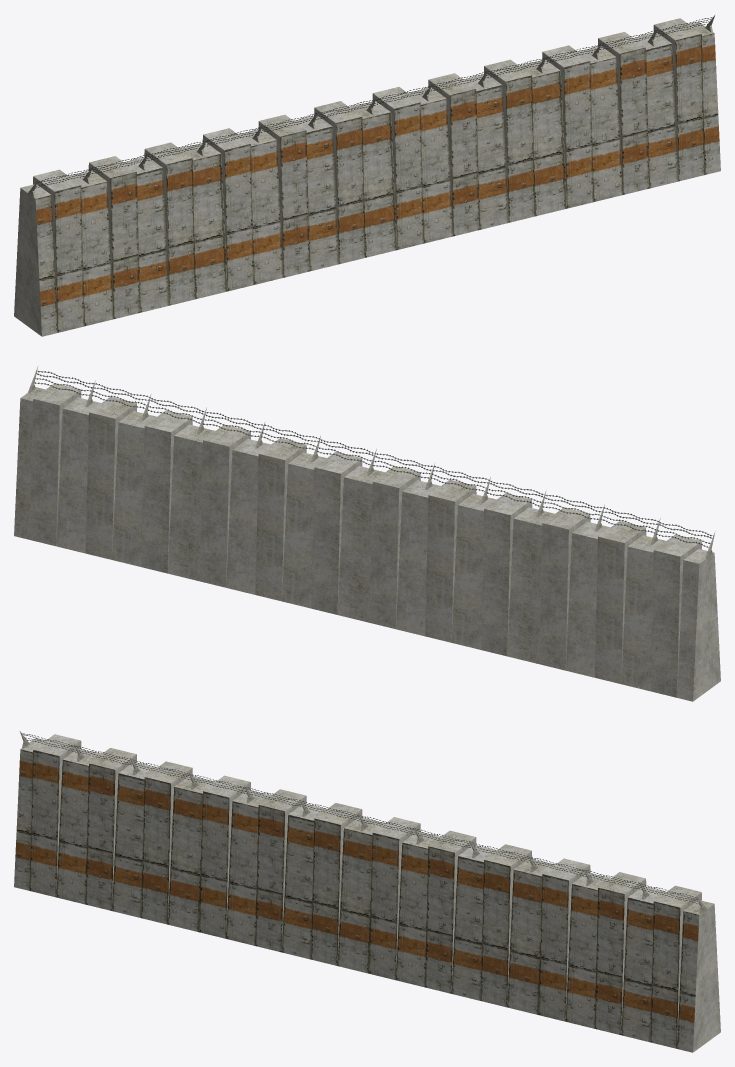
The model's file is mun_all_military_wall_strong_rebl_32_s01_l1.fbx.
3 renders of one model, top to bottom at view 1: azimuth 30°, elevation 25°; view 2: azimuth 150°, elevation 25°; view 3: azimuth 330°, elevation 25°, orthographic.
Parts seen in each view (by area): view 1: mesh_node; view 2: mesh_node; view 3: mesh_node.
Boxes of the visible parts, bbox=[...] form: mesh_node: bbox=[14, 15, 720, 336]; mesh_node: bbox=[14, 367, 720, 701]; mesh_node: bbox=[14, 731, 720, 1052].
Bounding box in the file's own units: 32 × 6.93 × 2.29.
